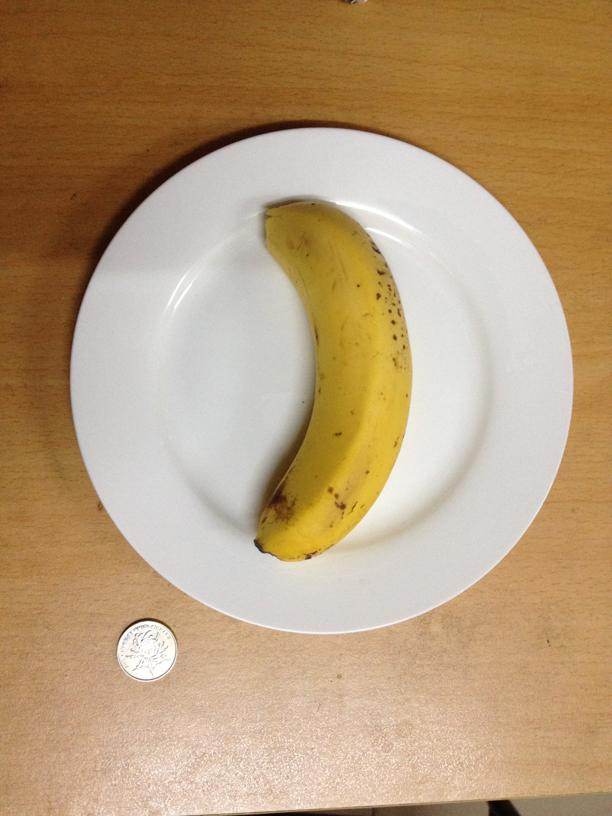banana: (254, 197, 413, 561)
coin: (113, 622, 178, 681)
